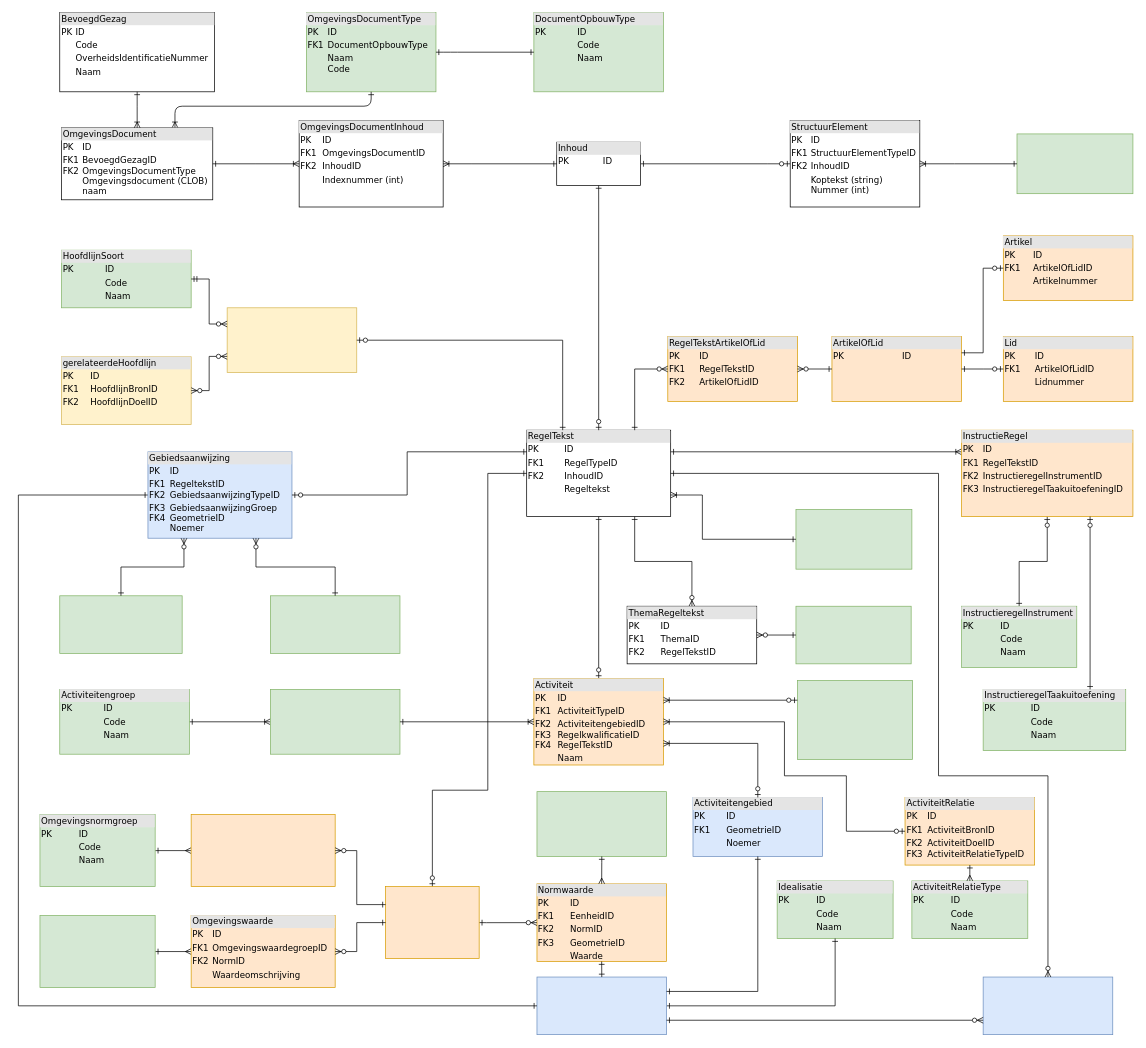
Image size: 1146x1048. Some labels were removed from this diagram. Each missing label, with the box of its shape:
ActiviteitType PK ID FK1 ActiviteitengroepID Code Naam: (270, 689, 400, 754)
Eenheid PK ID Code Naam: (536, 791, 667, 856)
GebiedsaanwijzingGroep PK ID Code Naam: (270, 595, 400, 653)
GebiedsaanwijzingType PK ID Code Naam: (59, 595, 182, 653)
Geometrie PK ID FK1 Geometrie IdealisatieID: (536, 976, 667, 1035)
Hoofdlijn PK FK1 ID RegelTekstID FK2 HoofdlijnSoortID naam: (226, 307, 357, 373)
Norm PK ID FK1 RegelTekstID: (385, 886, 479, 959)
Omgevingsnorm PK ID FK1 OmgevingsnormgroepID FK2 NormID Normbeschrijving: (190, 814, 335, 887)
Omgevingswaardegroep PK ID Code Naam: (39, 915, 155, 988)
Regelkwalificatie PK ID Code Naam: (797, 680, 913, 760)
RegelType PK ID Code Naam: (795, 509, 912, 569)
StructuurElementType PK ID Code Naam: (1016, 133, 1133, 194)
Thema PK ID Code Naam: (795, 606, 911, 664)
Werkingsgebied PK ID FK1 FK2 GeometrieID RegeltekstID: (982, 976, 1113, 1035)
